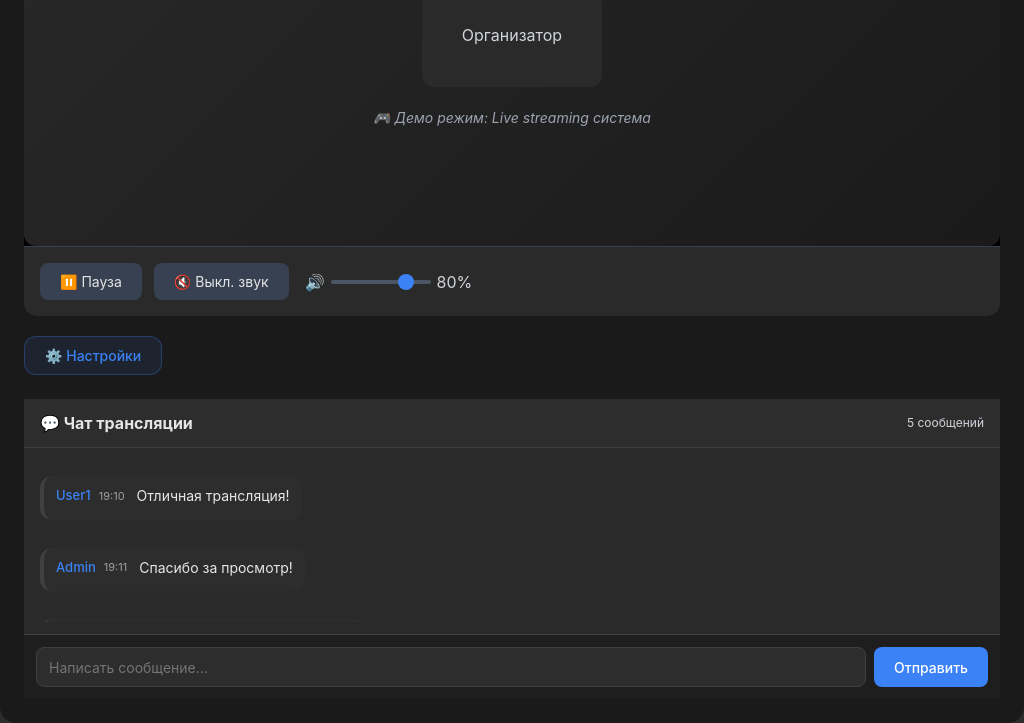
Test case: EnhancedLiveBroadcastView › allows sending messages in chat
(page scrolled)
Type "Hello!" into the field with placeholder "Написать сообщение..." at [451, 667], box x1=36 y1=647 x2=866 y2=687
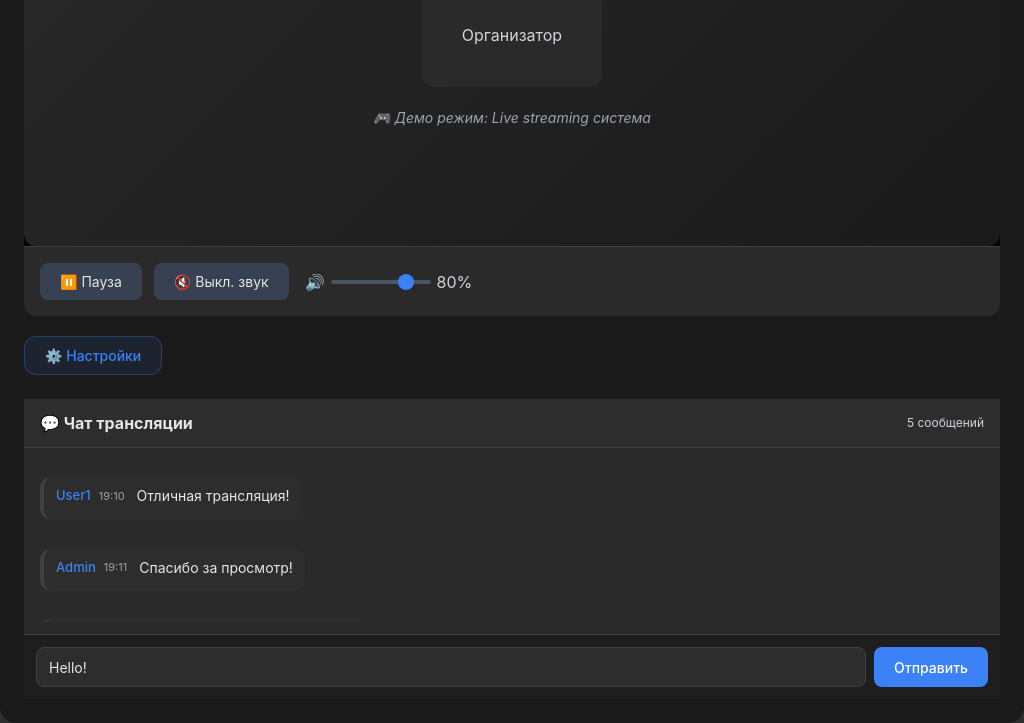
Click the button "Отправить" at [931, 667], box x1=874 y1=647 x2=988 y2=687
(page scrolled)
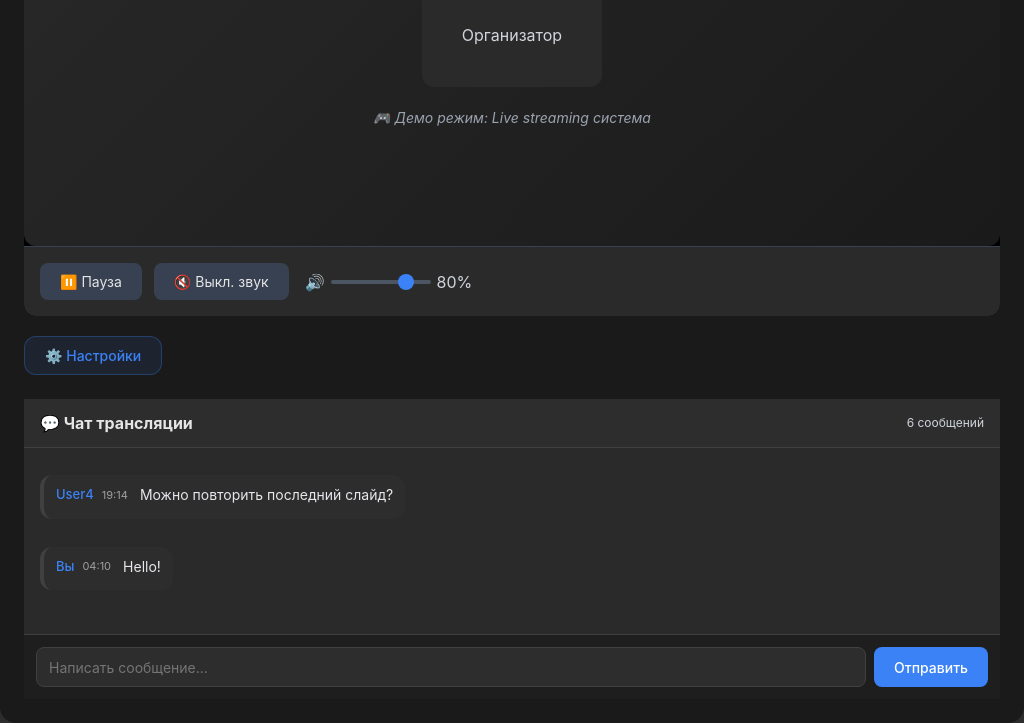
Check: the text "Hello!" is shown, box x1=123 y1=556 x2=161 y2=580
